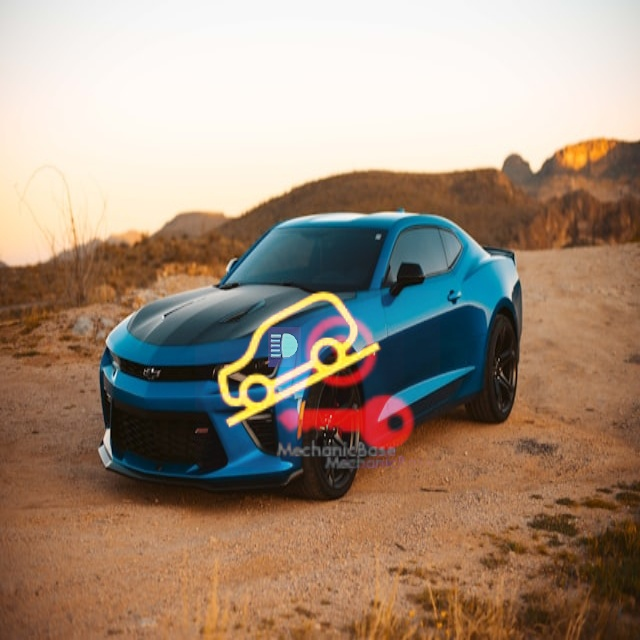symbol: (195, 258, 404, 467), (252, 290, 440, 478), (220, 286, 349, 415)
